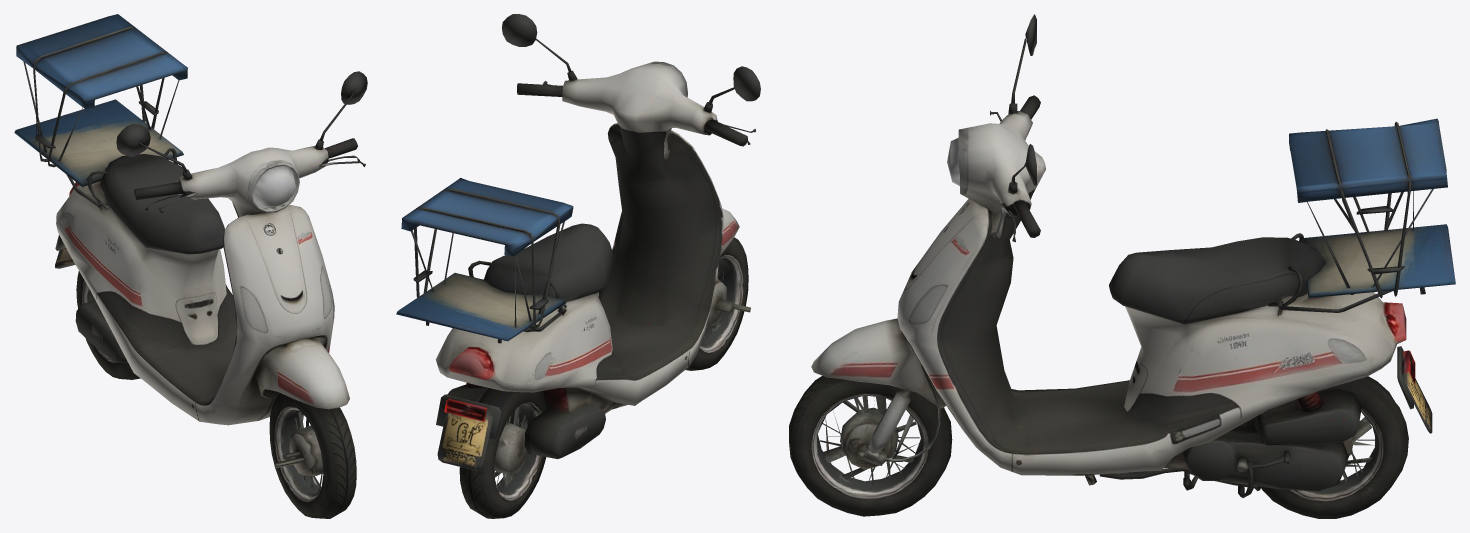
Rendered from scooter.glb.
The picture shows the model from 3 angles, left to right: view 1: azimuth 30°, elevation 25°; view 2: azimuth 150°, elevation 25°; view 3: azimuth 270°, elevation 25°; orthographic projection. The views are drawn at different scales.
Visible parts, largest first — view 1: tripo_node_a1a124d7-38cb-45ed-ad44-b03df014b4cf; view 2: tripo_node_a1a124d7-38cb-45ed-ad44-b03df014b4cf; view 3: tripo_node_a1a124d7-38cb-45ed-ad44-b03df014b4cf.
Boxes of the visible parts, <box> form: tripo_node_a1a124d7-38cb-45ed-ad44-b03df014b4cf: <box>14,14,367,518</box>; tripo_node_a1a124d7-38cb-45ed-ad44-b03df014b4cf: <box>396,14,760,518</box>; tripo_node_a1a124d7-38cb-45ed-ad44-b03df014b4cf: <box>789,14,1455,518</box>.
Bounding box in the file's own units: 0.5137 × 0.7207 × 0.998.
1 material, 1 textured.
